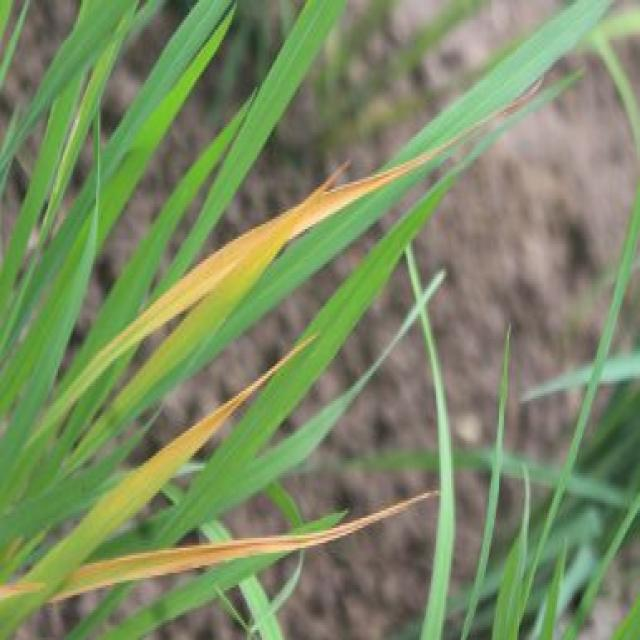Tungro: (136, 144, 416, 363), (97, 328, 323, 530), (129, 167, 366, 348), (357, 457, 503, 596), (315, 339, 434, 473)
